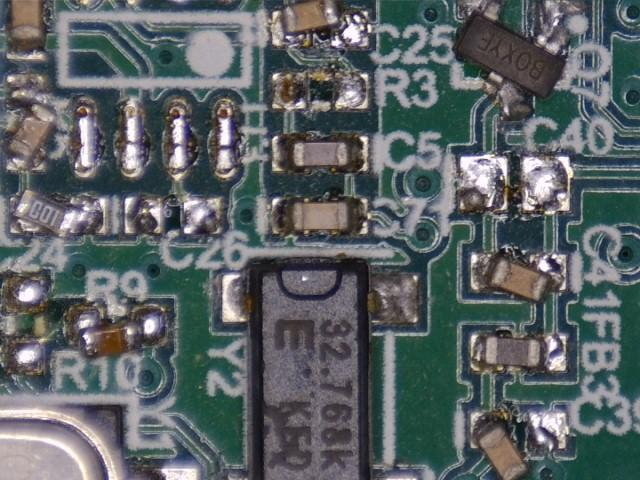Incorrect_installation: (452, 1, 585, 124), (469, 411, 571, 480), (2, 72, 63, 174), (65, 306, 169, 361), (470, 251, 568, 307), (8, 188, 107, 243), (272, 1, 374, 53), (470, 332, 570, 375)
